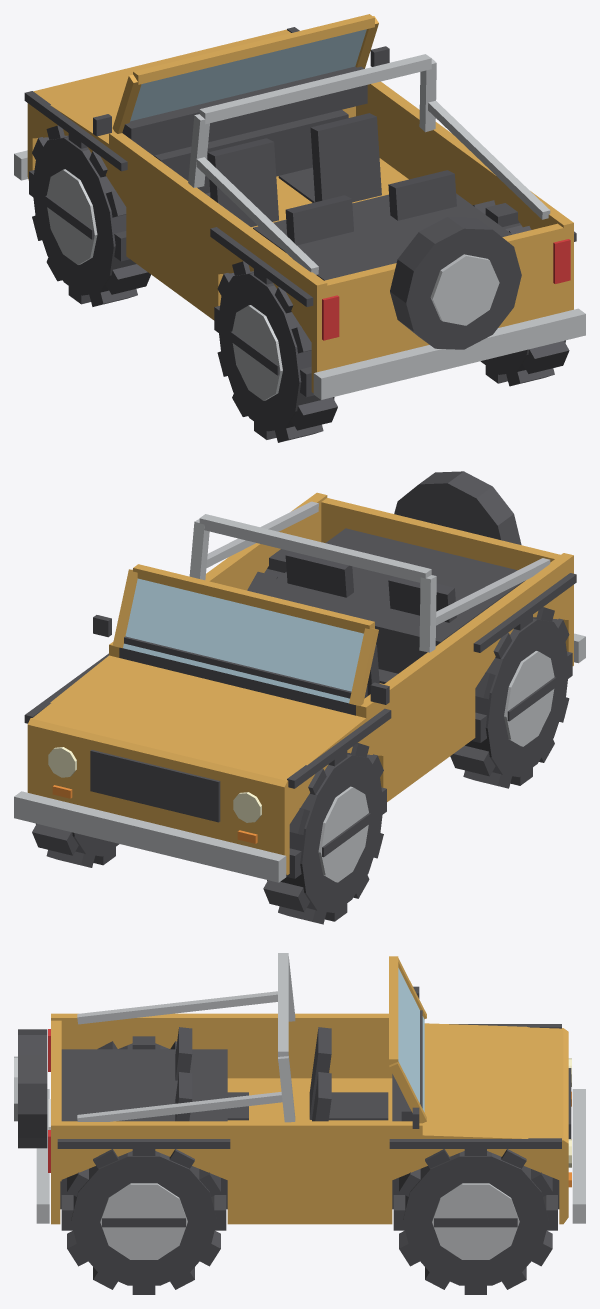
Rendered from jeep.glb.
3 renders of one model, top to bottom at view 1: azimuth 30°, elevation 25°; view 2: azimuth 150°, elevation 25°; view 3: azimuth 270°, elevation 25°, orthographic. The views are drawn at different scales.
Visible parts, largest first — view 1: body, wheel_RL, wheel_FL, wheel_RR; view 2: body, wheel_FL, wheel_RL, wheel_FR, wheel_RR; view 3: body, wheel_RR, wheel_FR, wheel_RL.
Part boxes in pixels (x1,y1,x2,y2): body: (14,14,585,399); wheel_RL: (214,261,337,442); wheel_FL: (29,125,150,306); wheel_RR: (473,200,569,386); body: (14,471,585,882); wheel_FL: (263,743,386,924); wheel_RL: (450,607,572,788); wheel_FR: (32,823,119,867); wheel_RR: (247,549,289,592); body: (14,953,585,1224); wheel_RR: (61,1149,226,1294); wheel_FR: (393,1149,557,1294); wheel_RL: (97,1036,176,1049).
Bounding box in the file's own units: 2.28 × 1.95 × 4.31.
